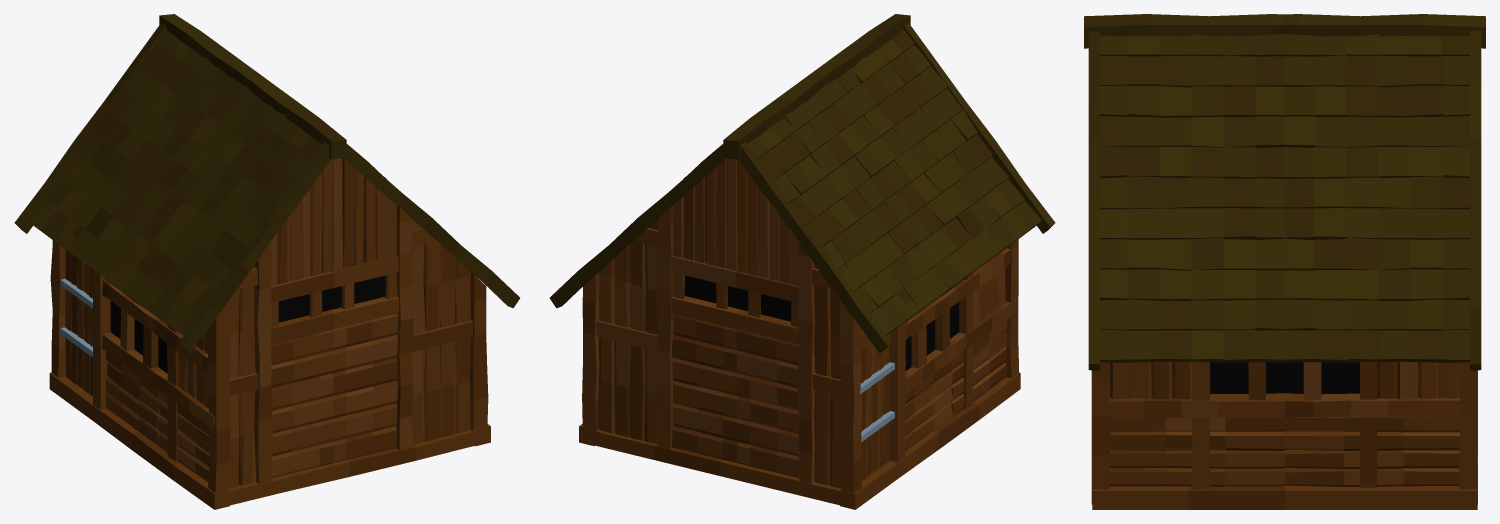
The model's file is castle_town_shack_2.fbx.
3 views of the same model, side by side, from view 1: azimuth 30°, elevation 25°; view 2: azimuth 150°, elevation 25°; view 3: azimuth 270°, elevation 25° (orthographic). The views are drawn at different scales.
Parts seen in each view (by area): view 1: house 1.002; view 2: house 1.002; view 3: house 1.002.
Part boxes in pixels (x1,y1,x2,y2): house 1.002: [14, 14, 519, 509]; house 1.002: [549, 14, 1055, 509]; house 1.002: [1084, 14, 1485, 509].
Bounding box in the file's own units: 3164 × 3511 × 3588.
